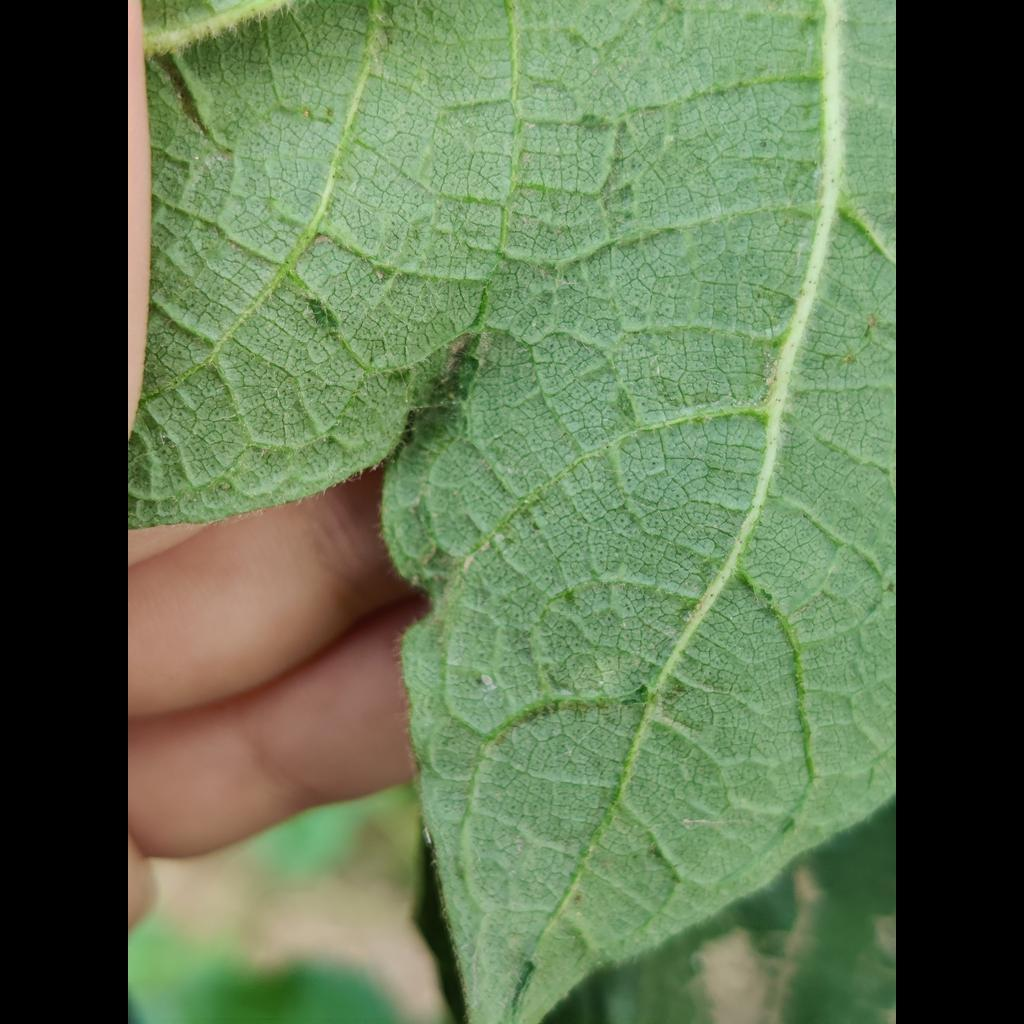nymph: (480, 674, 492, 685)
